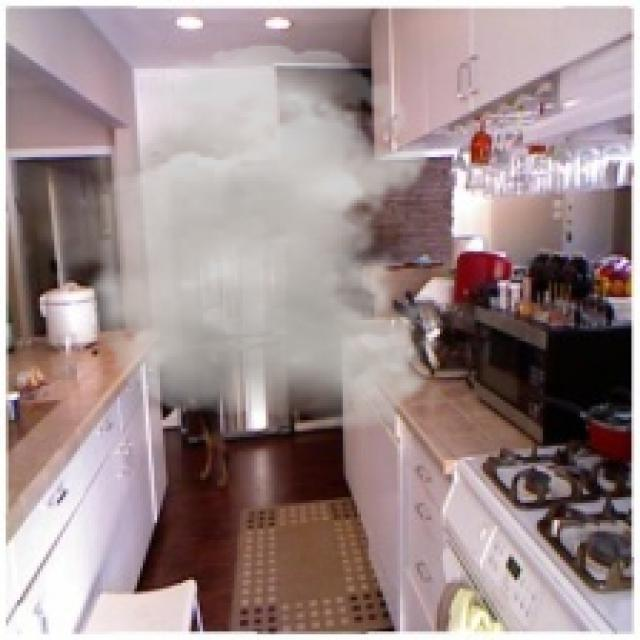Smoke: (28, 42, 446, 432)
